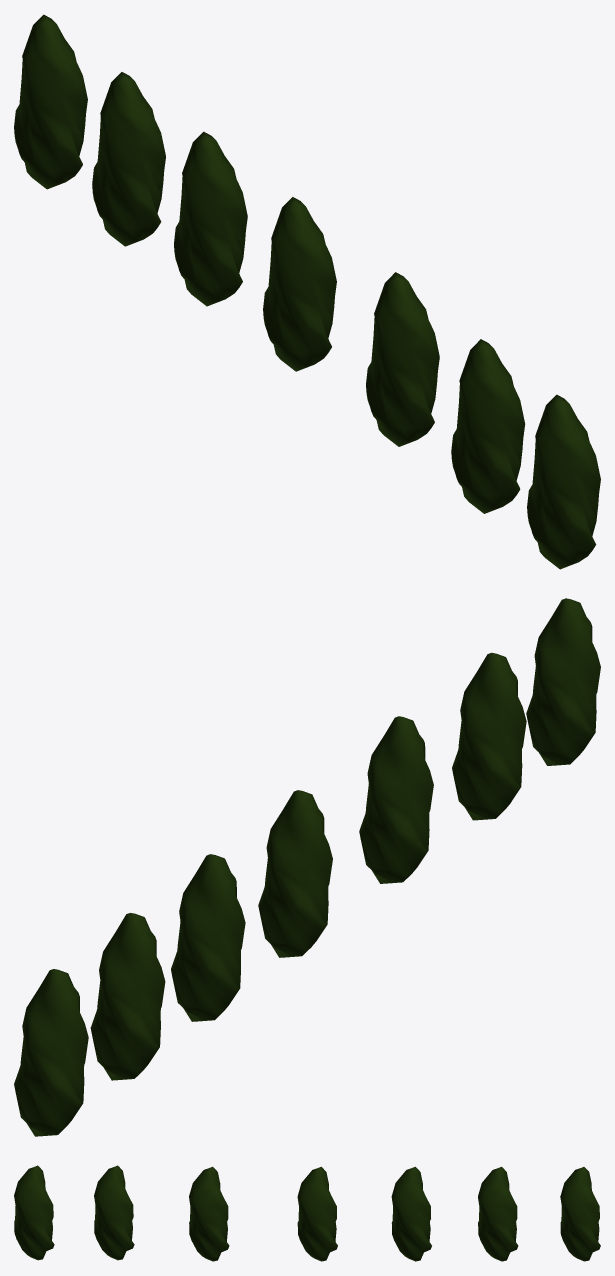
Rendered from Arbustos.FBX.
3 renders of one model, top to bottom at view 1: azimuth 30°, elevation 25°; view 2: azimuth 150°, elevation 25°; view 3: azimuth 270°, elevation 25°, orthographic. The views are drawn at different scales.
Visible parts, largest first — view 1: Arbusto Alto013, Arbusto Alto007, Arbusto Alto009, Arbusto Alto008, Arbusto Alto014, Arbusto Alto011, Arbusto Alto010; view 2: Arbusto Alto013, Arbusto Alto011, Arbusto Alto010, Arbusto Alto008, Arbusto Alto007, Arbusto Alto009, Arbusto Alto014; view 3: Arbusto Alto007, Arbusto Alto011, Arbusto Alto008, Arbusto Alto014, Arbusto Alto013, Arbusto Alto010, Arbusto Alto009.
Boxes of the visible parts, x1,y1,x2,y2 form: Arbusto Alto013: (527,394,600,569); Arbusto Alto007: (14,14,87,189); Arbusto Alto009: (174,131,247,306); Arbusto Alto008: (92,72,165,246); Arbusto Alto014: (451,339,525,513); Arbusto Alto011: (366,272,439,446); Arbusto Alto010: (263,197,336,371); Arbusto Alto013: (526,598,600,765); Arbusto Alto011: (359,716,433,883); Arbusto Alto010: (258,790,332,957); Arbusto Alto008: (90,913,165,1080); Arbusto Alto007: (14,969,88,1136); Arbusto Alto009: (171,854,245,1021); Arbusto Alto014: (452,652,526,820); Arbusto Alto007: (560,1167,600,1261); Arbusto Alto011: (189,1166,229,1261); Arbusto Alto008: (478,1166,518,1261); Arbusto Alto014: (94,1165,134,1260); Arbusto Alto013: (14,1165,54,1260); Arbusto Alto010: (297,1166,337,1261); Arbusto Alto009: (391,1166,431,1261).
Bounding box in the file's own units: 5.88 × 14.97 × 87.28.
